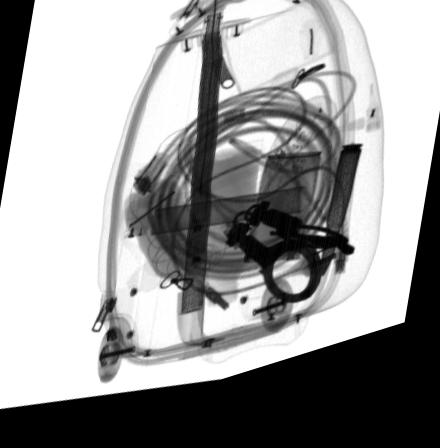Bullet: (317, 166, 361, 297)
HandCuffs: (224, 216, 353, 322)
